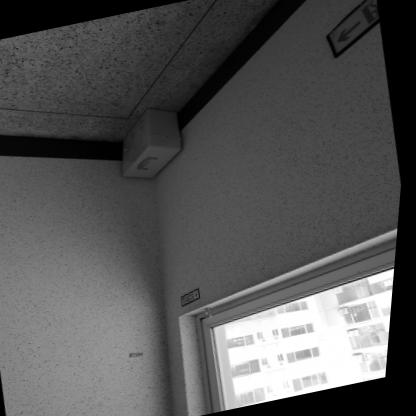DDL: (113, 102, 193, 184)
